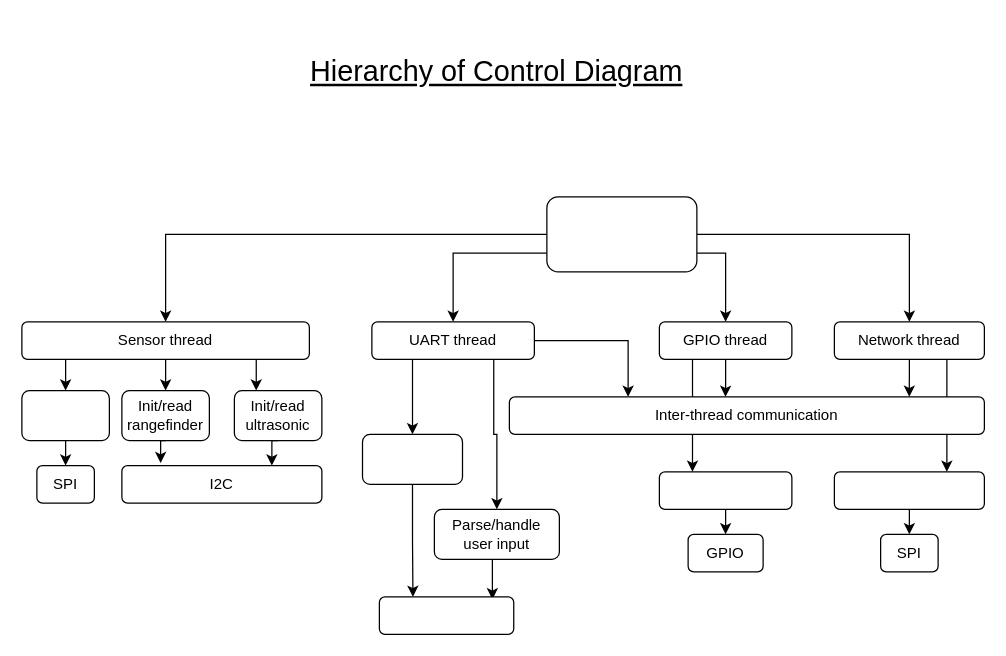
Some shapes in this 1006 by 656 pixel diagram are drawn without their labels. Each missing label, with the centre of its shape:
Main: pixel 621 234
Read ADC data: pixel 65 415
Send data out: pixel 908 490
Show device status: pixel 725 490
Stream log/sensor data: pixel 411 458
UART: pixel 446 615
